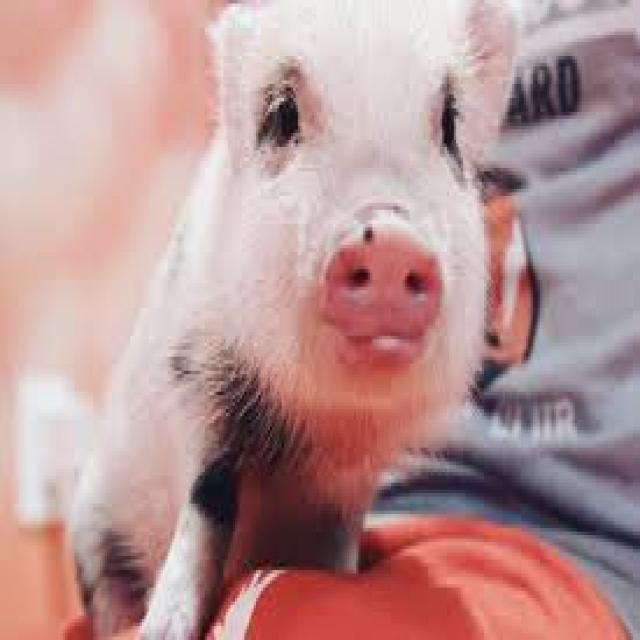Pig: (56, 0, 547, 633)
